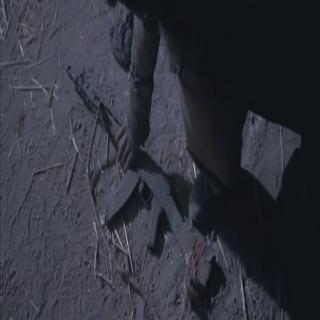gun: (67, 63, 217, 291)
